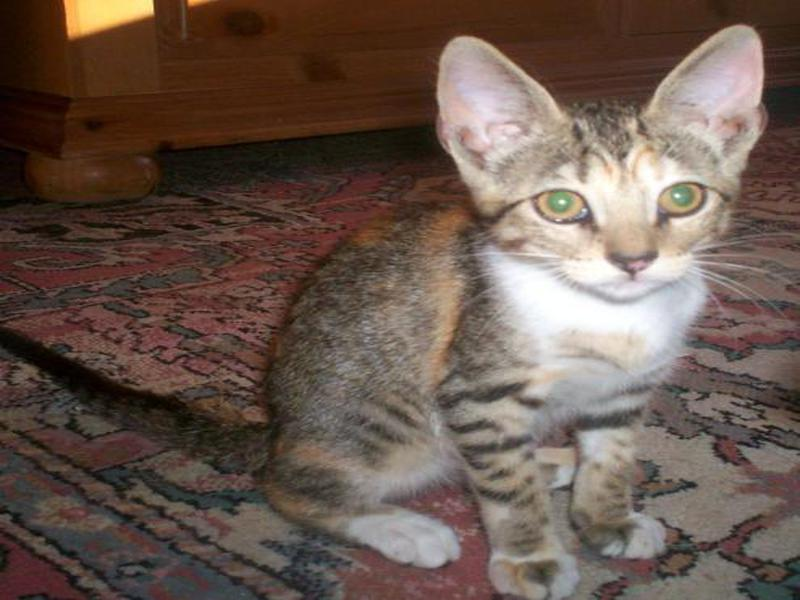cat: (233, 31, 763, 588)
